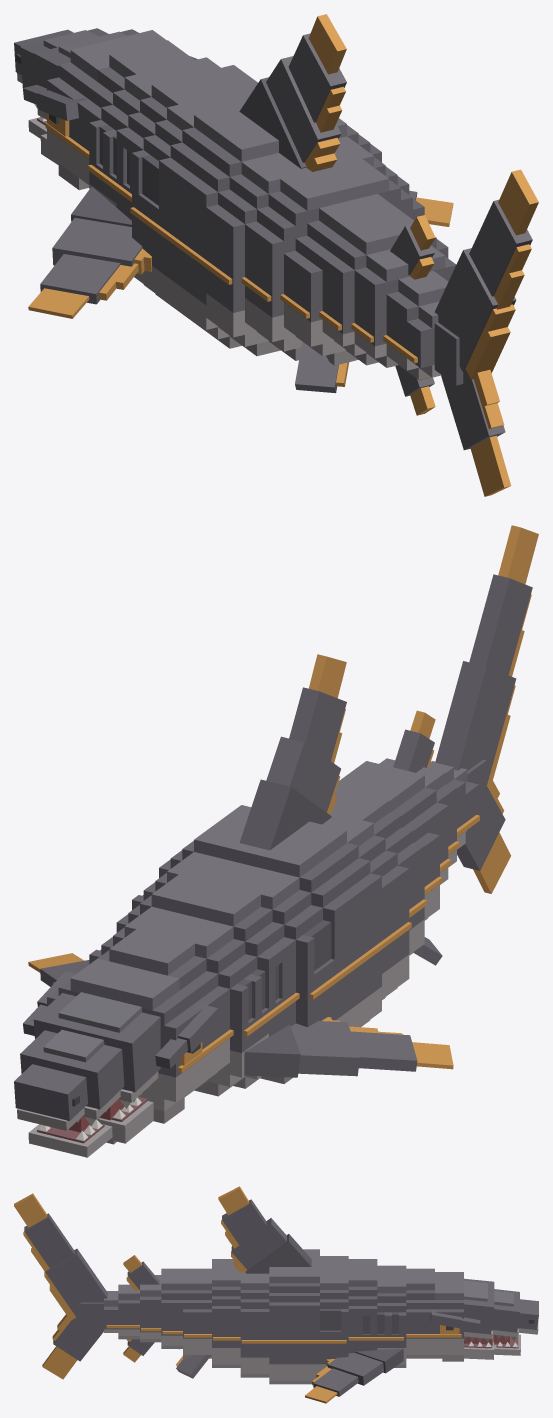
Rendered from HellfinShark.glb.
3 views of the same model, one above another, from view 1: azimuth 30°, elevation 25°; view 2: azimuth 150°, elevation 25°; view 3: azimuth 270°, elevation 25° (orthographic). The views are drawn at different scales.
Parts seen in each view (by area): view 1: S2, S3, S1, S4, Head, S5, Tail, Tail_Glow, S2_Glow, S1_Glow, S5_Glow, S4_Glow (+1 smaller); view 2: Head, S2, S1, Tail, S3, S4, S5, Tail_Glow, S1_Glow, S2_Glow, S5_Glow; view 3: S2, Head, S1, S3, Tail, S4, S5, Tail_Glow, S2_Glow, S1_Glow, S5_Glow, Head_Glow.
Part boxes in pixels (<box>): S2: <box>132,33,381,348</box>; S3: <box>206,136,424,360</box>; S1: <box>40,57,417,304</box>; S4: <box>284,194,448,393</box>; Head: <box>14,28,197,190</box>; S5: <box>354,224,456,396</box>; Tail: <box>434,199,532,450</box>; Tail_Glow: <box>465,169,538,496</box>; S2_Glow: <box>130,14,346,266</box>; S1_Glow: <box>28,164,453,318</box>; S5_Glow: <box>351,215,435,415</box>; S4_Glow: <box>280,294,349,386</box>; Head: <box>14,929,229,1157</box>; S2: <box>132,687,381,1083</box>; S1: <box>40,874,417,1096</box>; Tail: <box>435,574,532,870</box>; S3: <box>322,787,424,999</box>; S4: <box>337,761,448,965</box>; S5: <box>379,729,479,867</box>; Tail_Glow: <box>473,525,538,893</box>; S1_Glow: <box>28,953,453,1069</box>; S2_Glow: <box>309,654,387,999</box>; S5_Glow: <box>410,710,479,854</box>; S2: <box>222,1199,348,1384</box>; Head: <box>406,1268,538,1361</box>; S1: <box>313,1259,406,1396</box>; S3: <box>212,1259,269,1377</box>; Tail: <box>24,1213,107,1361</box>; S4: <box>161,1268,211,1378</box>; S5: <box>104,1261,161,1355</box>; Tail_Glow: <box>14,1193,77,1379</box>; S2_Glow: <box>218,1186,346,1343</box>; S1_Glow: <box>305,1337,403,1403</box>; S5_Glow: <box>106,1255,161,1362</box>; Head_Glow: <box>406,1325,461,1337</box>.
Bounding box in the file's own units: 16.33 × 13.19 × 32.81.
